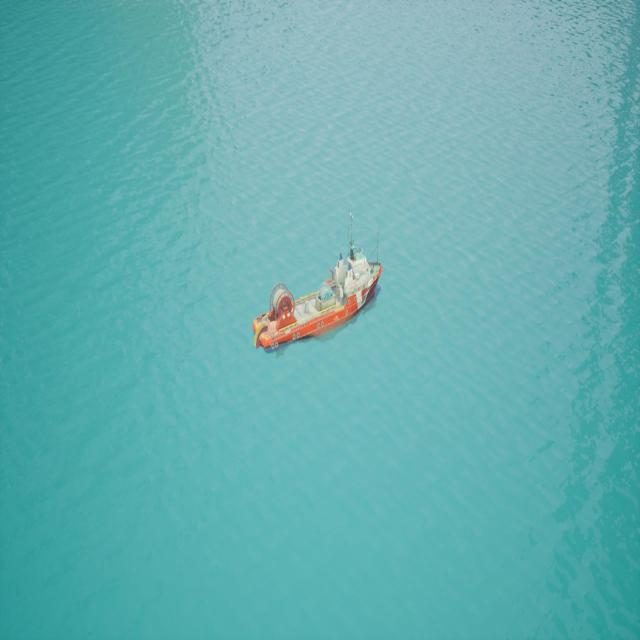tug boat: (255, 244, 385, 352)
